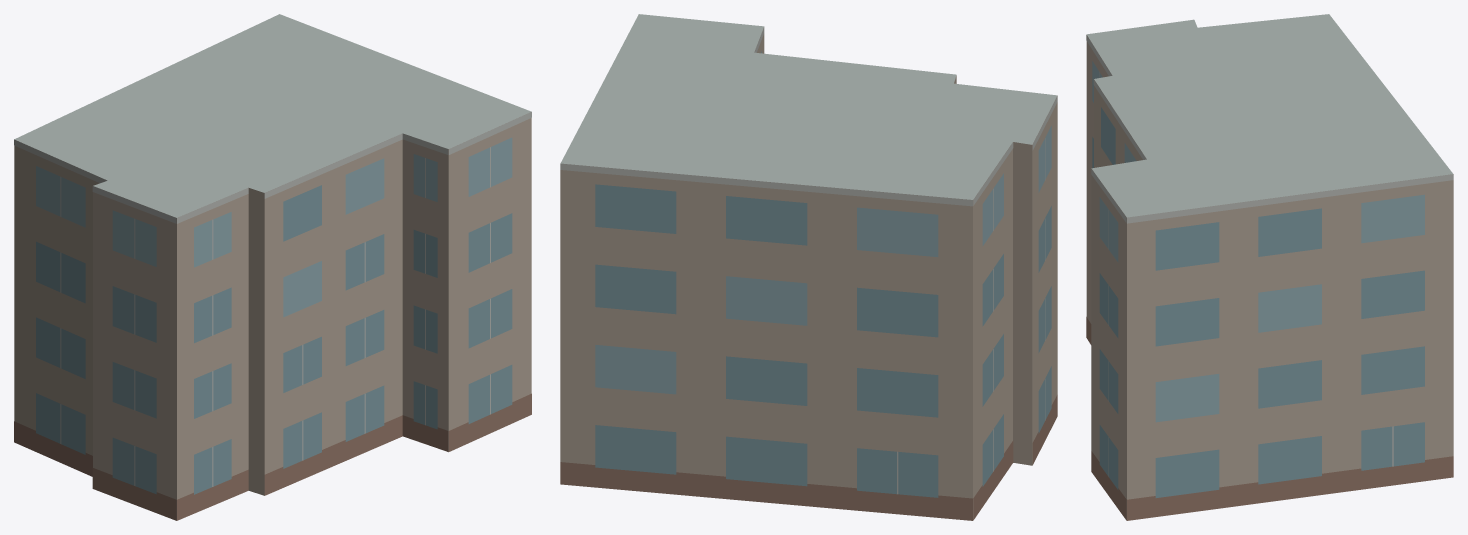
The model's file is survey-upis-32920899.glb.
The picture shows the model from 3 angles, left to right: view 1: azimuth 30°, elevation 25°; view 2: azimuth 150°, elevation 25°; view 3: azimuth 270°, elevation 25°; orthographic projection. The views are drawn at different scales.
Parts seen in each view (by area): view 1: survey-upis-32920899.tmp; view 2: survey-upis-32920899.tmp; view 3: survey-upis-32920899.tmp.
Boxes of the visible parts, <box> form: survey-upis-32920899.tmp: <box>14,14,531,520</box>; survey-upis-32920899.tmp: <box>560,14,1057,520</box>; survey-upis-32920899.tmp: <box>1086,14,1453,520</box>.
Size of the model in its own units: 17.57 by 12.2 by 13.39.
